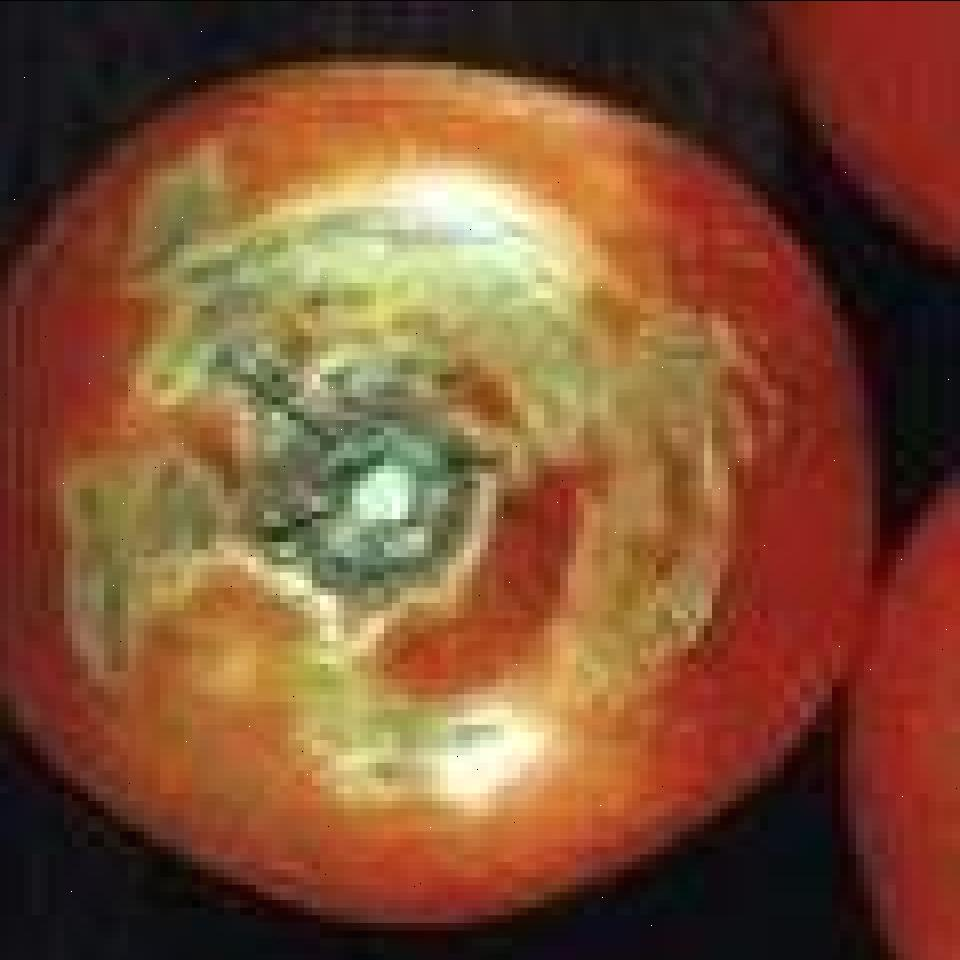Blossom_end_rot: (262, 380, 570, 586)
Cracking: (96, 109, 660, 404), (522, 260, 804, 730), (284, 586, 648, 812), (63, 416, 202, 698)
